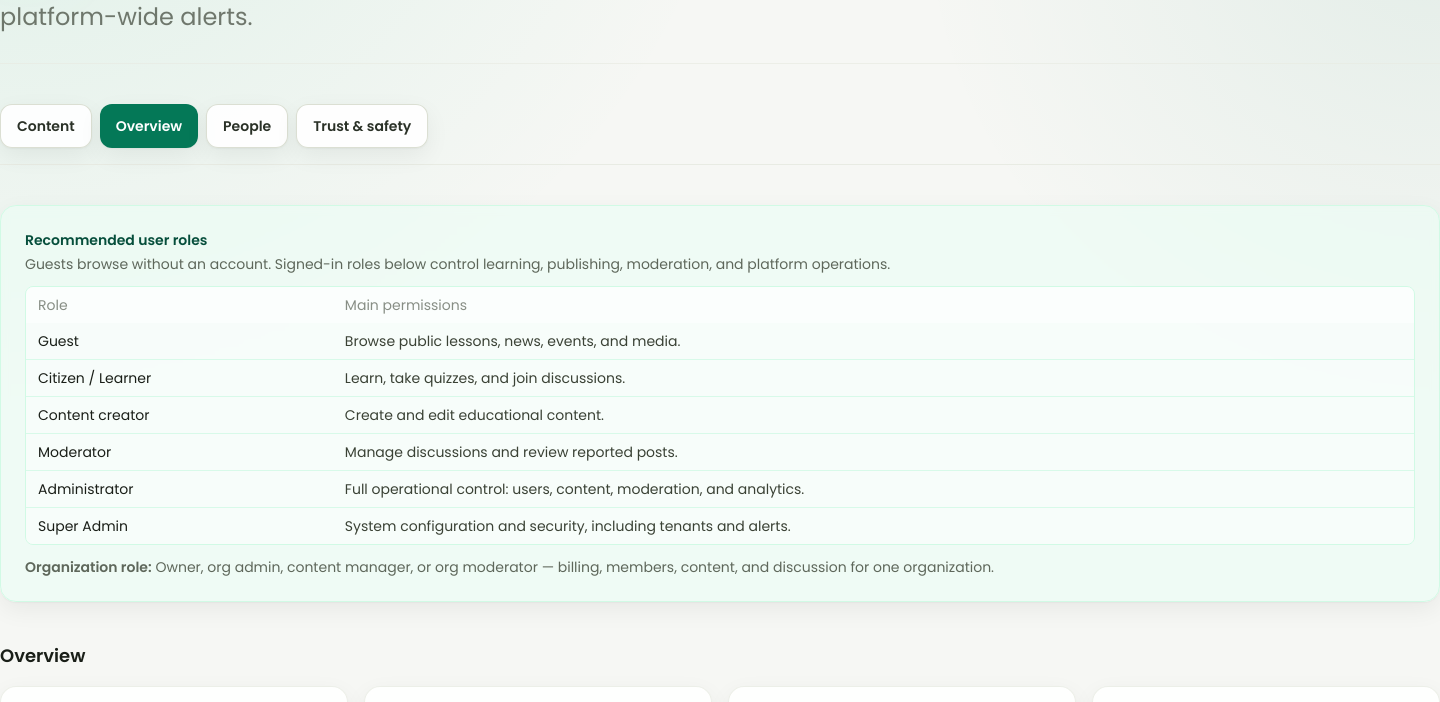
Test: AdminPage › splits platform admin into tabs
Expected: the link "create a lesson" is not shown
Click the tab "Content": [46, 126] box [0, 104, 92, 148]
(page scrolled)
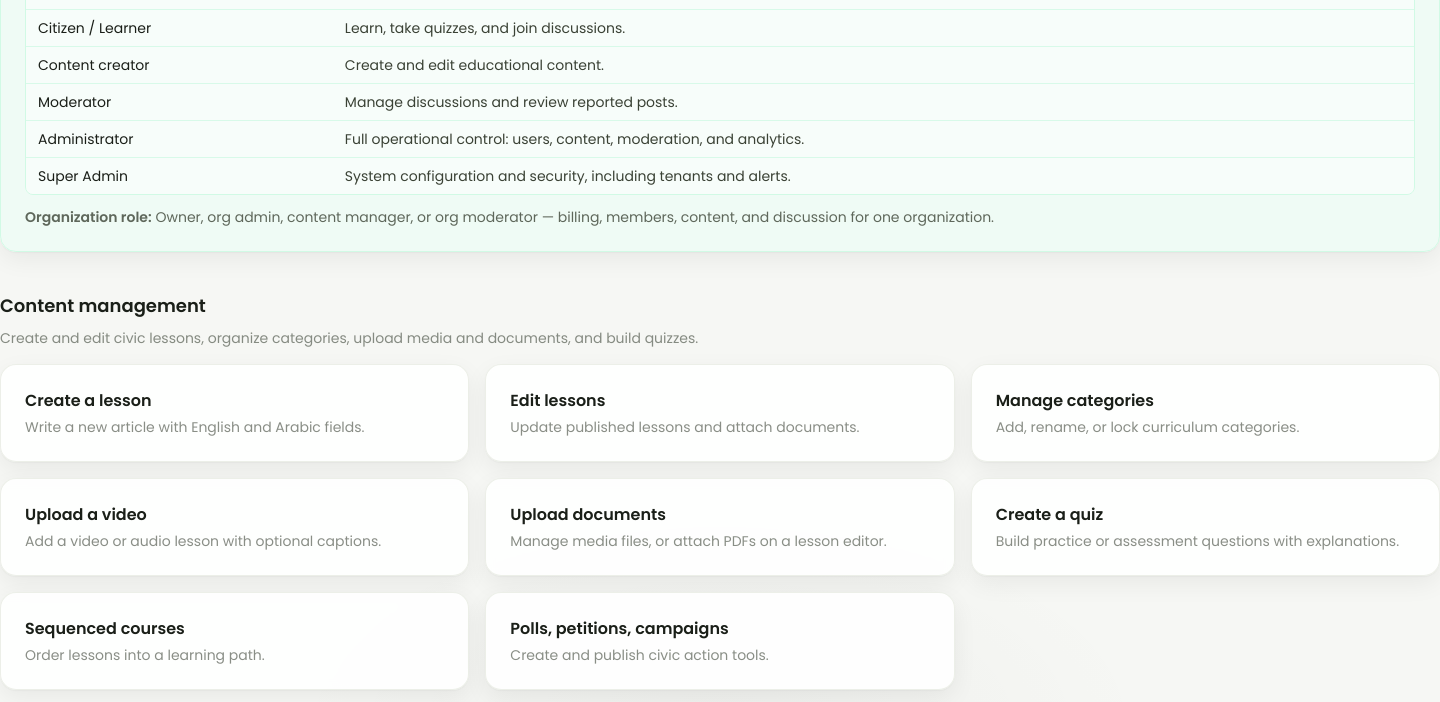
Expected: the link "Create a lesson" is shown, [0, 364, 469, 462]
